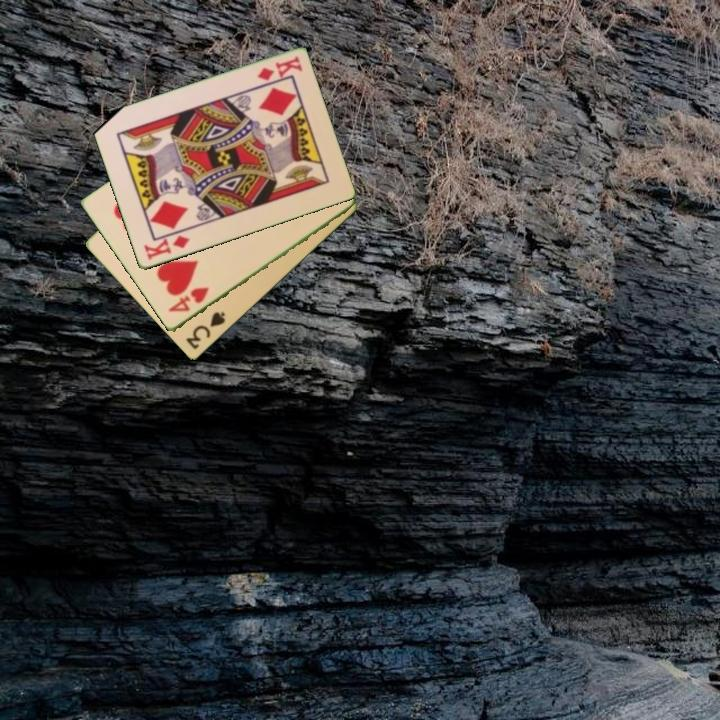3s: (182, 308, 228, 353)
4h: (165, 283, 212, 315)
Kd: (140, 232, 193, 263), (254, 53, 305, 84)
